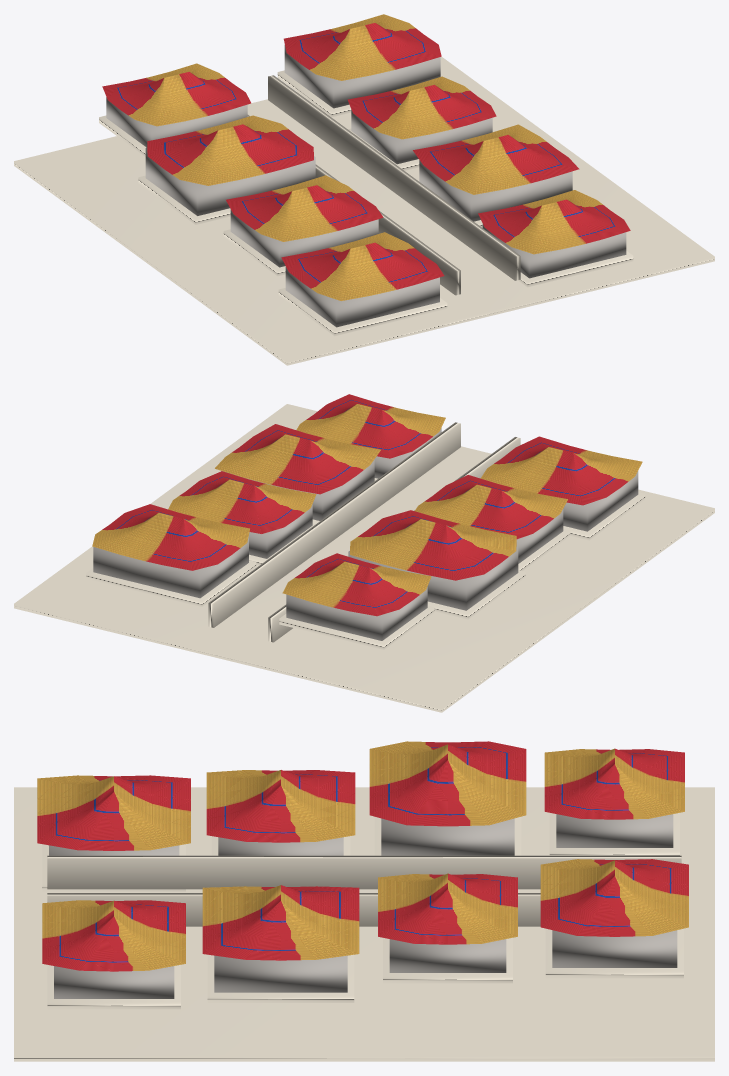
3 views of the same model, one above another, from view 1: azimuth 30°, elevation 25°; view 2: azimuth 150°, elevation 25°; view 3: azimuth 270°, elevation 25° (orthographic). The views are drawn at different scales.
Visible parts, largest first — view 1: gahoe31_roofs_lod2, gahoe31_ground_lod2, gahoe31_buildings_lod2, gahoe31_walls_lod2; view 2: gahoe31_roofs_lod2, gahoe31_ground_lod2, gahoe31_buildings_lod2, gahoe31_walls_lod2; view 3: gahoe31_roofs_lod2, gahoe31_ground_lod2, gahoe31_buildings_lod2, gahoe31_walls_lod2.
Part boxes in pixels (box(x1,y1,x2,y2)): gahoe31_roofs_lod2: box(102, 14, 630, 300); gahoe31_ground_lod2: box(14, 57, 714, 365); gahoe31_buildings_lod2: box(99, 45, 633, 336); gahoe31_walls_lod2: box(247, 75, 520, 295); gahoe31_roofs_lod2: box(92, 394, 642, 616); gahoe31_ground_lod2: box(14, 404, 714, 712); gahoe31_buildings_lod2: box(86, 427, 645, 649); gahoe31_walls_lod2: box(208, 422, 520, 642); gahoe31_roofs_lod2: box(37, 741, 688, 971); gahoe31_ground_lod2: box(14, 787, 714, 1061); gahoe31_buildings_lod2: box(42, 813, 683, 1009); gahoe31_walls_lod2: box(47, 855, 681, 926).
Size of the model in its own units: 38 by 7.9 by 42.
3 materials, 3 textured.
